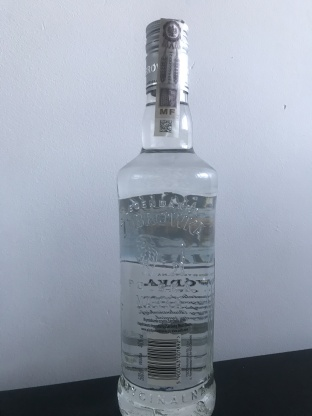nakretka: (142, 13, 191, 97)
